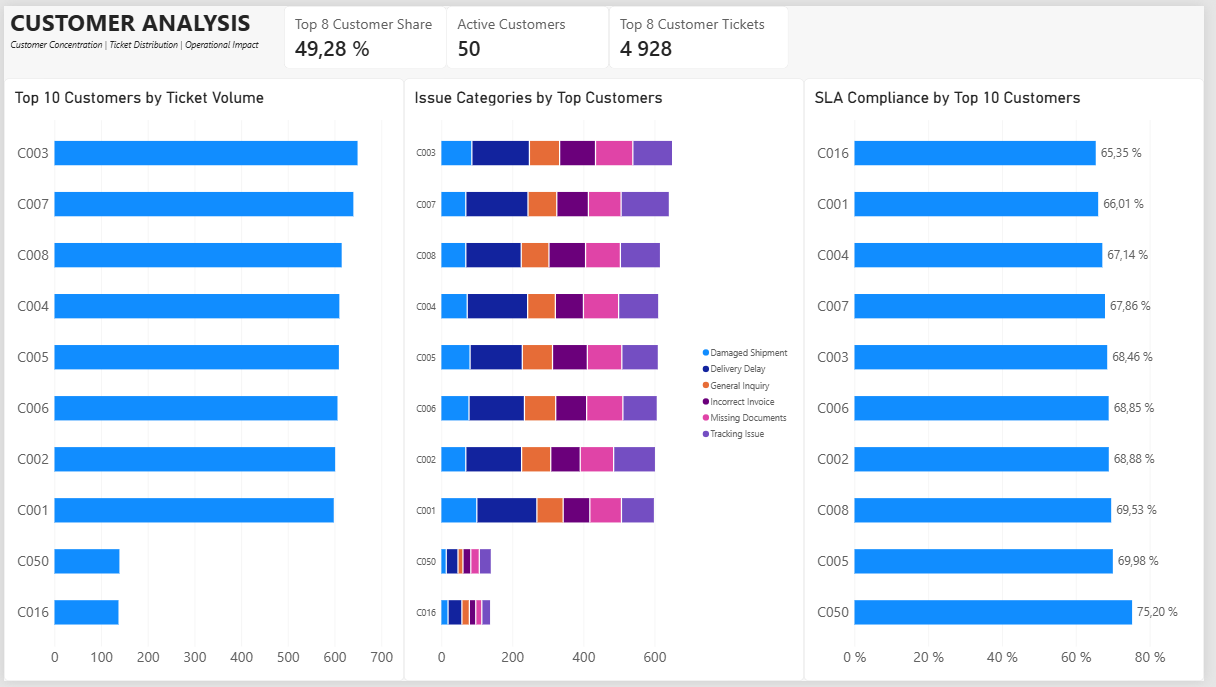

The dashboard page shown, as its layout file describes it:
{"tool":"powerbi","page":{"name":"02 | Customer Analysis","canvas":[1920,1080],"ordinal":1},"visuals":[{"type":"textbox","box":[10,0,388.8,51.2],"z":0},{"type":"textbox","box":[10,51.2,403.8,21.2],"z":1000},{"type":"clusteredBarChart","title":"Top 10 Customers by Ticket Volume","fields":{"Category":["tickets.customer_id"],"Y":["tickets.Total Tickets"]},"box":[0,116,640,964],"z":2000},{"type":"barChart","title":"Issue Categories by Top Customers","fields":{"Category":["tickets.customer_id"],"Series":["tickets.category"],"Y":["tickets.Total Tickets"]},"box":[640,116,640,964],"z":3000},{"type":"cardVisual","fields":{"Data":["tickets.Top 8 Customer Share"]},"box":[448,0,260,100],"z":4000},{"type":"cardVisual","fields":{"Data":["tickets.Active Customers"]},"box":[708,0,260,100],"z":5000},{"type":"cardVisual","fields":{"Data":["tickets.Top 8 Customer Tickets Display"]},"box":[967.5,0,287.5,100],"z":6000},{"type":"clusteredBarChart","title":"SLA Compliance by Top 10 Customers","fields":{"Category":["tickets.customer_id"],"Y":["tickets.SLA Compliance %"]},"box":[1280,115,640,964],"z":7000}]}

Visuals, with their boxes in screenshot pixels (x1, y1, x2, y2), scaled from the page's 1920x1080 canvas onto the 1216x687 screenshot:
textbox: select_region(6, 0, 253, 33)
textbox: select_region(6, 33, 262, 46)
"Top 10 Customers by Ticket Volume" clusteredBarChart: select_region(0, 74, 405, 686)
"Issue Categories by Top Customers" barChart: select_region(405, 74, 811, 686)
cardVisual - tickets.Top 8 Customer Share: select_region(284, 0, 448, 64)
cardVisual - tickets.Active Customers: select_region(448, 0, 613, 64)
cardVisual - tickets.Top 8 Customer Tickets Display: select_region(613, 0, 795, 64)
"SLA Compliance by Top 10 Customers" clusteredBarChart: select_region(811, 73, 1215, 686)
